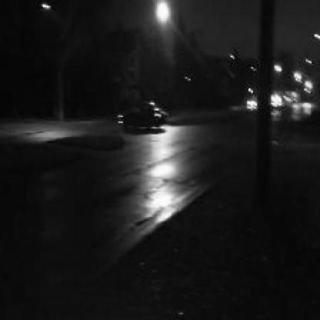other: (147, 140, 177, 217), (140, 1, 172, 33)
